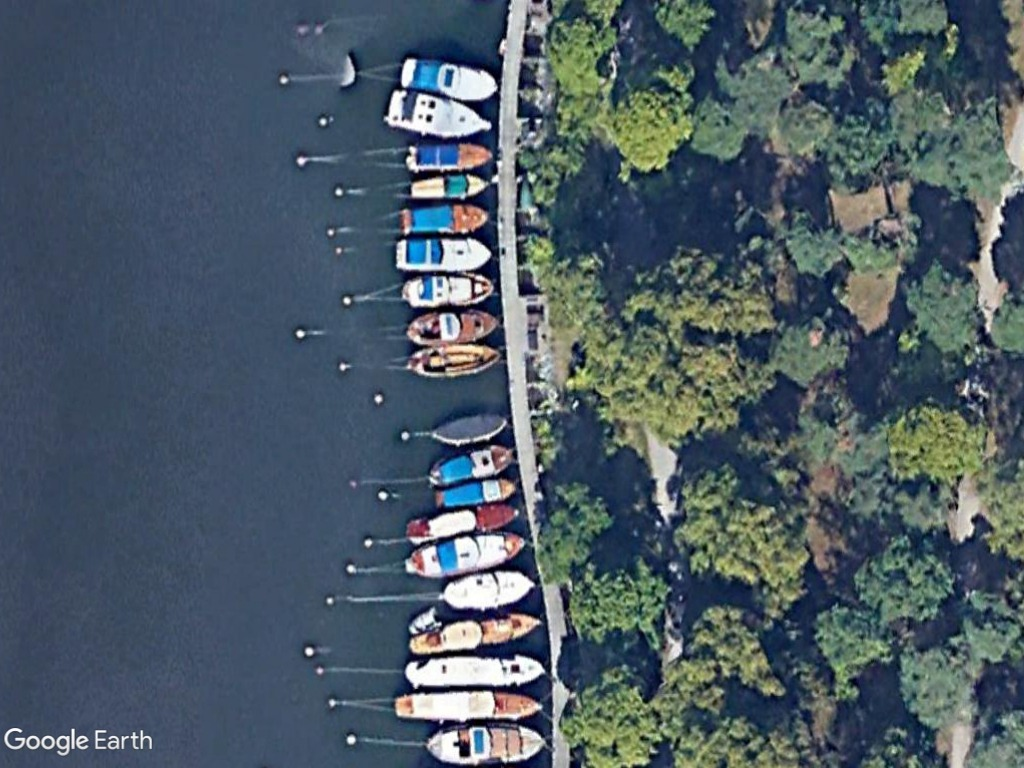boat: (397, 524, 530, 587), (401, 606, 555, 659), (400, 643, 555, 693), (417, 717, 560, 768), (380, 85, 501, 141), (385, 684, 549, 725), (394, 51, 506, 106), (433, 561, 549, 613), (420, 432, 517, 488), (400, 338, 504, 388), (384, 230, 499, 275), (397, 306, 504, 351), (392, 265, 499, 309), (392, 197, 497, 240), (398, 133, 499, 176), (400, 164, 494, 207), (428, 475, 527, 512), (423, 411, 514, 449)
